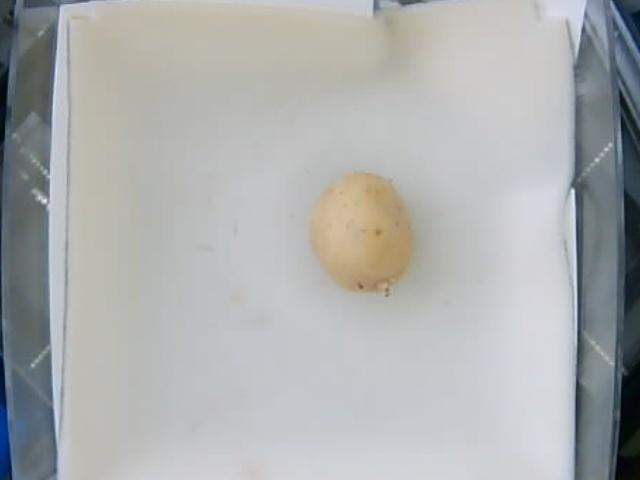Potato: (309, 175, 412, 298)
